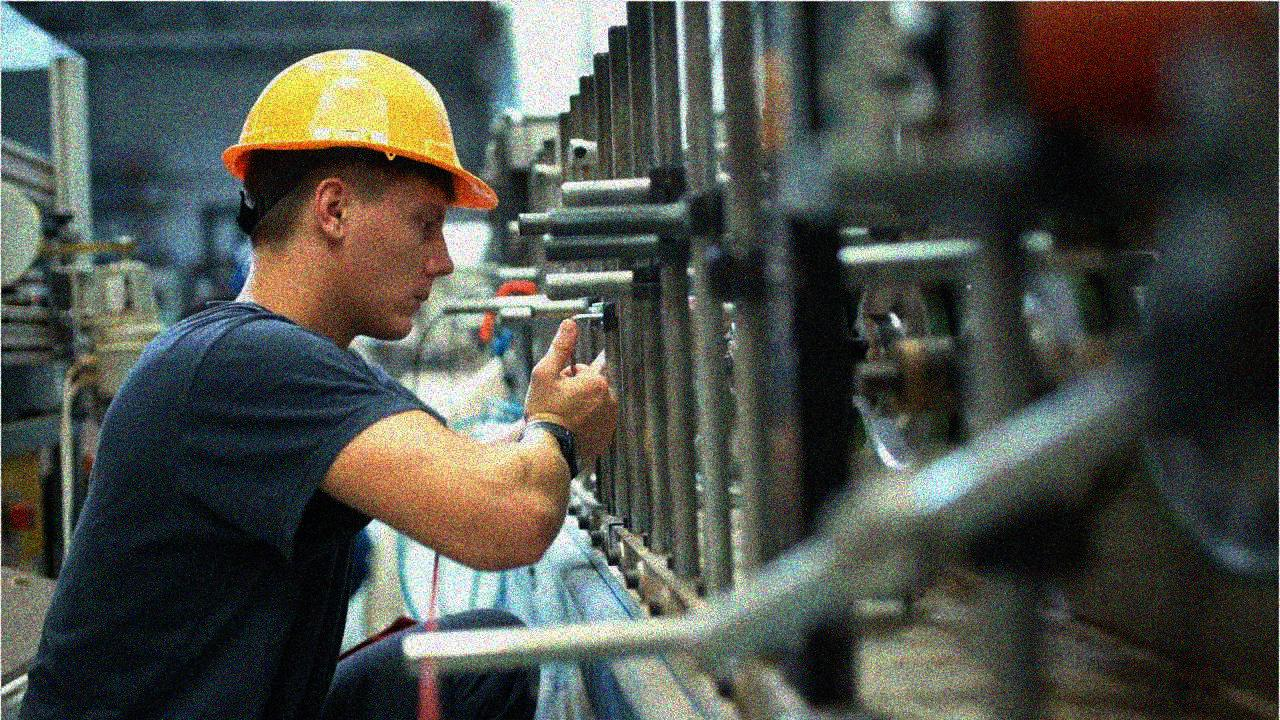helmet: (224, 48, 498, 345)
